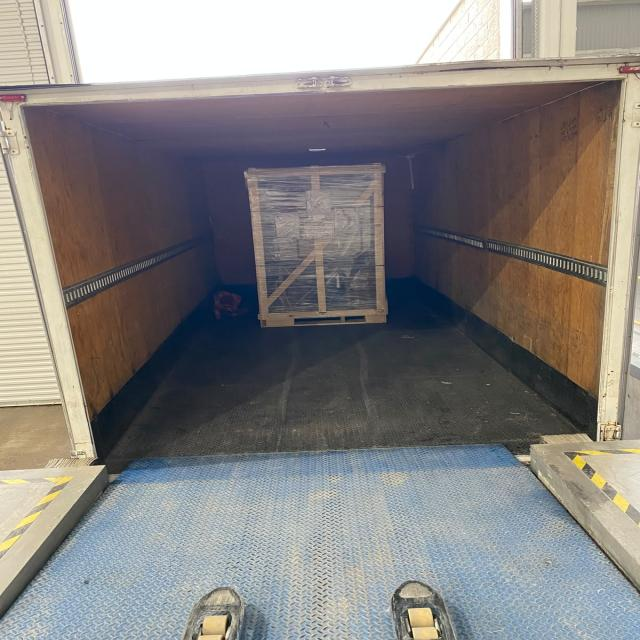15lx: (245, 163, 387, 326)
